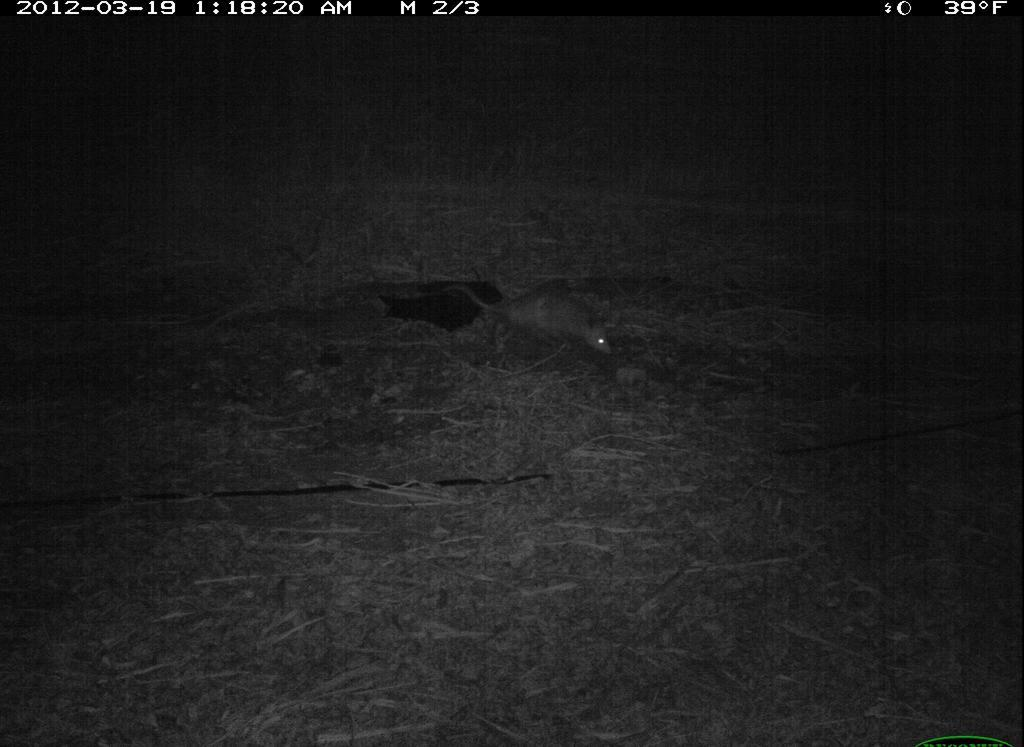opossum: (428, 269, 628, 370)
